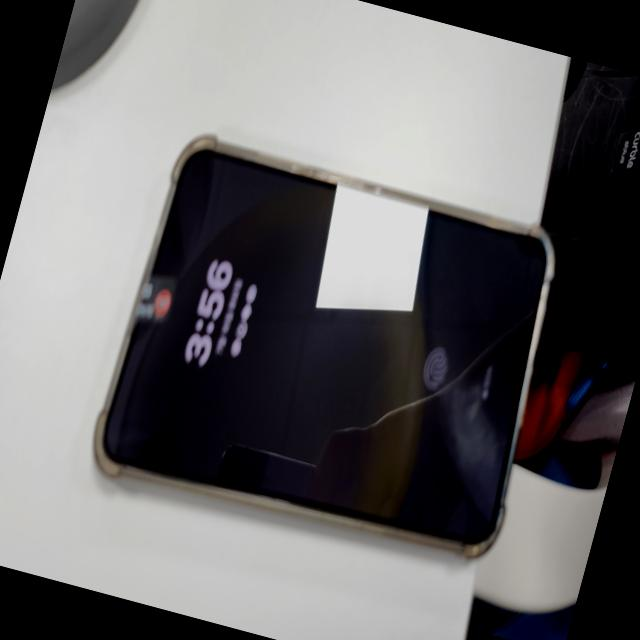phone: (82, 127, 575, 576)
sticker: (126, 262, 182, 333)
